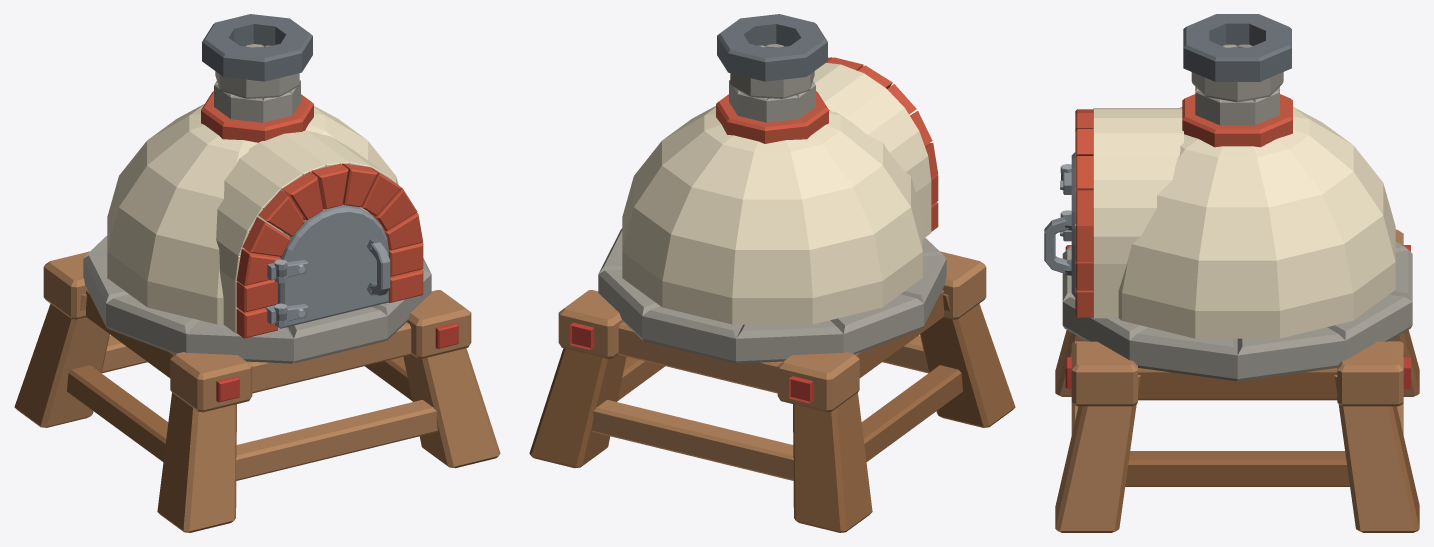
The model's file is FMS_Workshop_STA_09.fbx.
The picture shows the model from 3 angles, left to right: view 1: azimuth 30°, elevation 25°; view 2: azimuth 150°, elevation 25°; view 3: azimuth 270°, elevation 25°; orthographic projection. The views are drawn at different scales.
Parts seen in each view (by area): view 1: FMS_Workshop_STA_09_Body, FMS_Workshop_STA_09_Door; view 2: FMS_Workshop_STA_09_Body; view 3: FMS_Workshop_STA_09_Body, FMS_Workshop_STA_09_Door.
Boxes of the visible parts, <box> form: FMS_Workshop_STA_09_Body: <box>14,14,500,532</box>; FMS_Workshop_STA_09_Door: <box>274,204,390,328</box>; FMS_Workshop_STA_09_Body: <box>529,14,1015,532</box>; FMS_Workshop_STA_09_Body: <box>1055,14,1419,532</box>; FMS_Workshop_STA_09_Door: <box>1044,152,1076,297</box>.
Size of what is drawn, in the model's own units: 1.51 by 1.8 by 1.47.
Materials: 1 (1 with a texture image).
